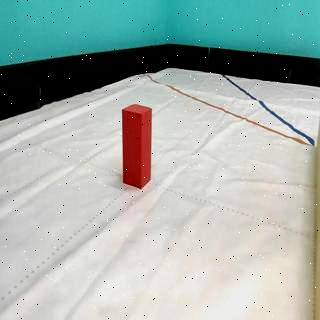redbox: (121, 102, 152, 190)
